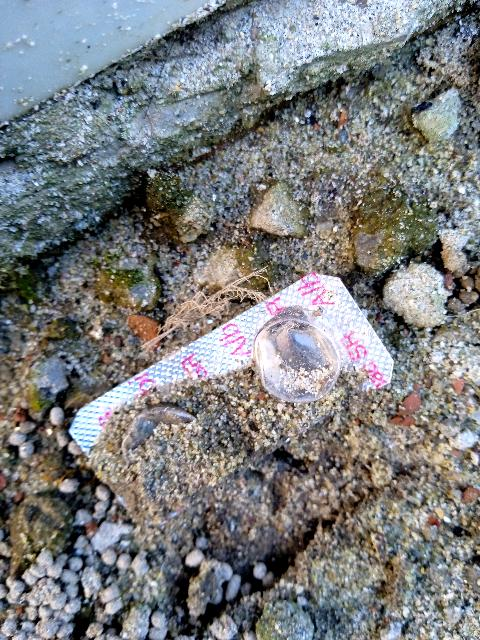medicine: (56, 255, 390, 438)
